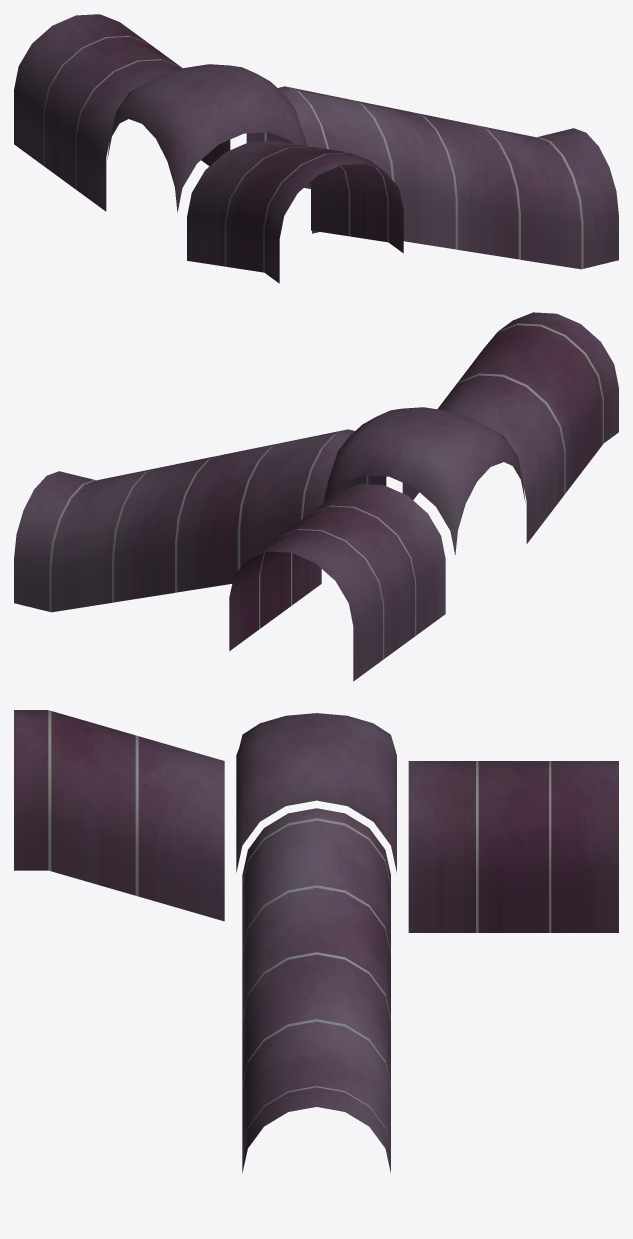
File: glass.gltf
3 views of the same model, one above another, from view 1: azimuth 30°, elevation 25°; view 2: azimuth 150°, elevation 25°; view 3: azimuth 270°, elevation 25° (orthographic). The views are drawn at different scales.
Visible parts, largest first — view 1: ModelObject; view 2: ModelObject; view 3: ModelObject.
Part boxes in pixels (box(x1,y1,x2,y2)): ModelObject: box(14, 14, 618, 283); ModelObject: box(14, 312, 618, 681); ModelObject: box(14, 710, 618, 1172).
Bounding box in the file's own units: 2.51 × 1.41 × 2.6.
Materials: 2 (2 with a texture image).
